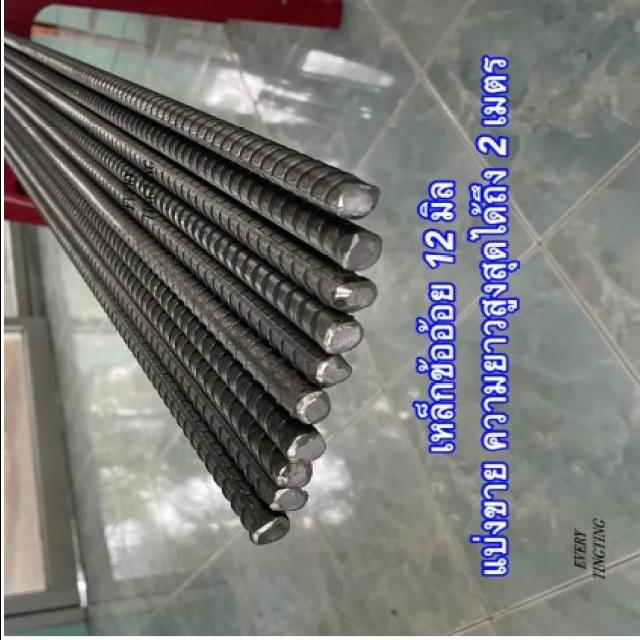Rebar: (247, 518, 296, 550), (340, 235, 380, 273), (332, 283, 376, 314), (335, 187, 377, 219), (296, 391, 335, 425), (285, 433, 328, 463), (324, 325, 361, 359), (314, 354, 350, 388), (270, 490, 310, 515), (274, 464, 314, 486)
